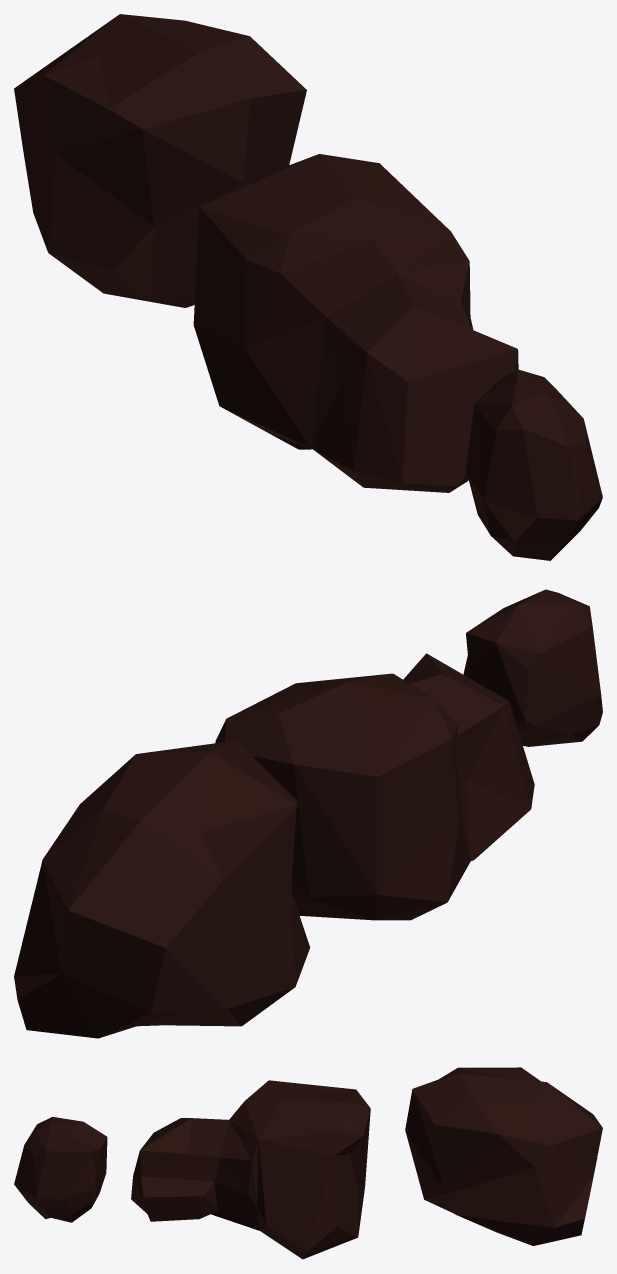
Rendered from rocks.fbx.
3 views of the same model, one above another, from view 1: azimuth 30°, elevation 25°; view 2: azimuth 150°, elevation 25°; view 3: azimuth 270°, elevation 25° (orthographic). The views are drawn at different scales.
Visible parts, largest first — view 1: rock3, rock2, rock; view 2: rock2, rock3, rock; view 3: rock3, rock2, rock.
Part boxes in pixels (box(x1,y1,x2,y2)): rock3: box(193, 154, 518, 492); rock2: box(14, 14, 306, 307); rock: box(465, 369, 602, 560); rock2: box(14, 740, 310, 1038); rock3: box(215, 653, 534, 920); rock: box(463, 589, 602, 746); rock3: box(131, 1080, 370, 1259); rock2: box(405, 1067, 602, 1245); rock: box(14, 1116, 107, 1222).
Bounding box in the file's own units: 666 × 671 × 2210.
